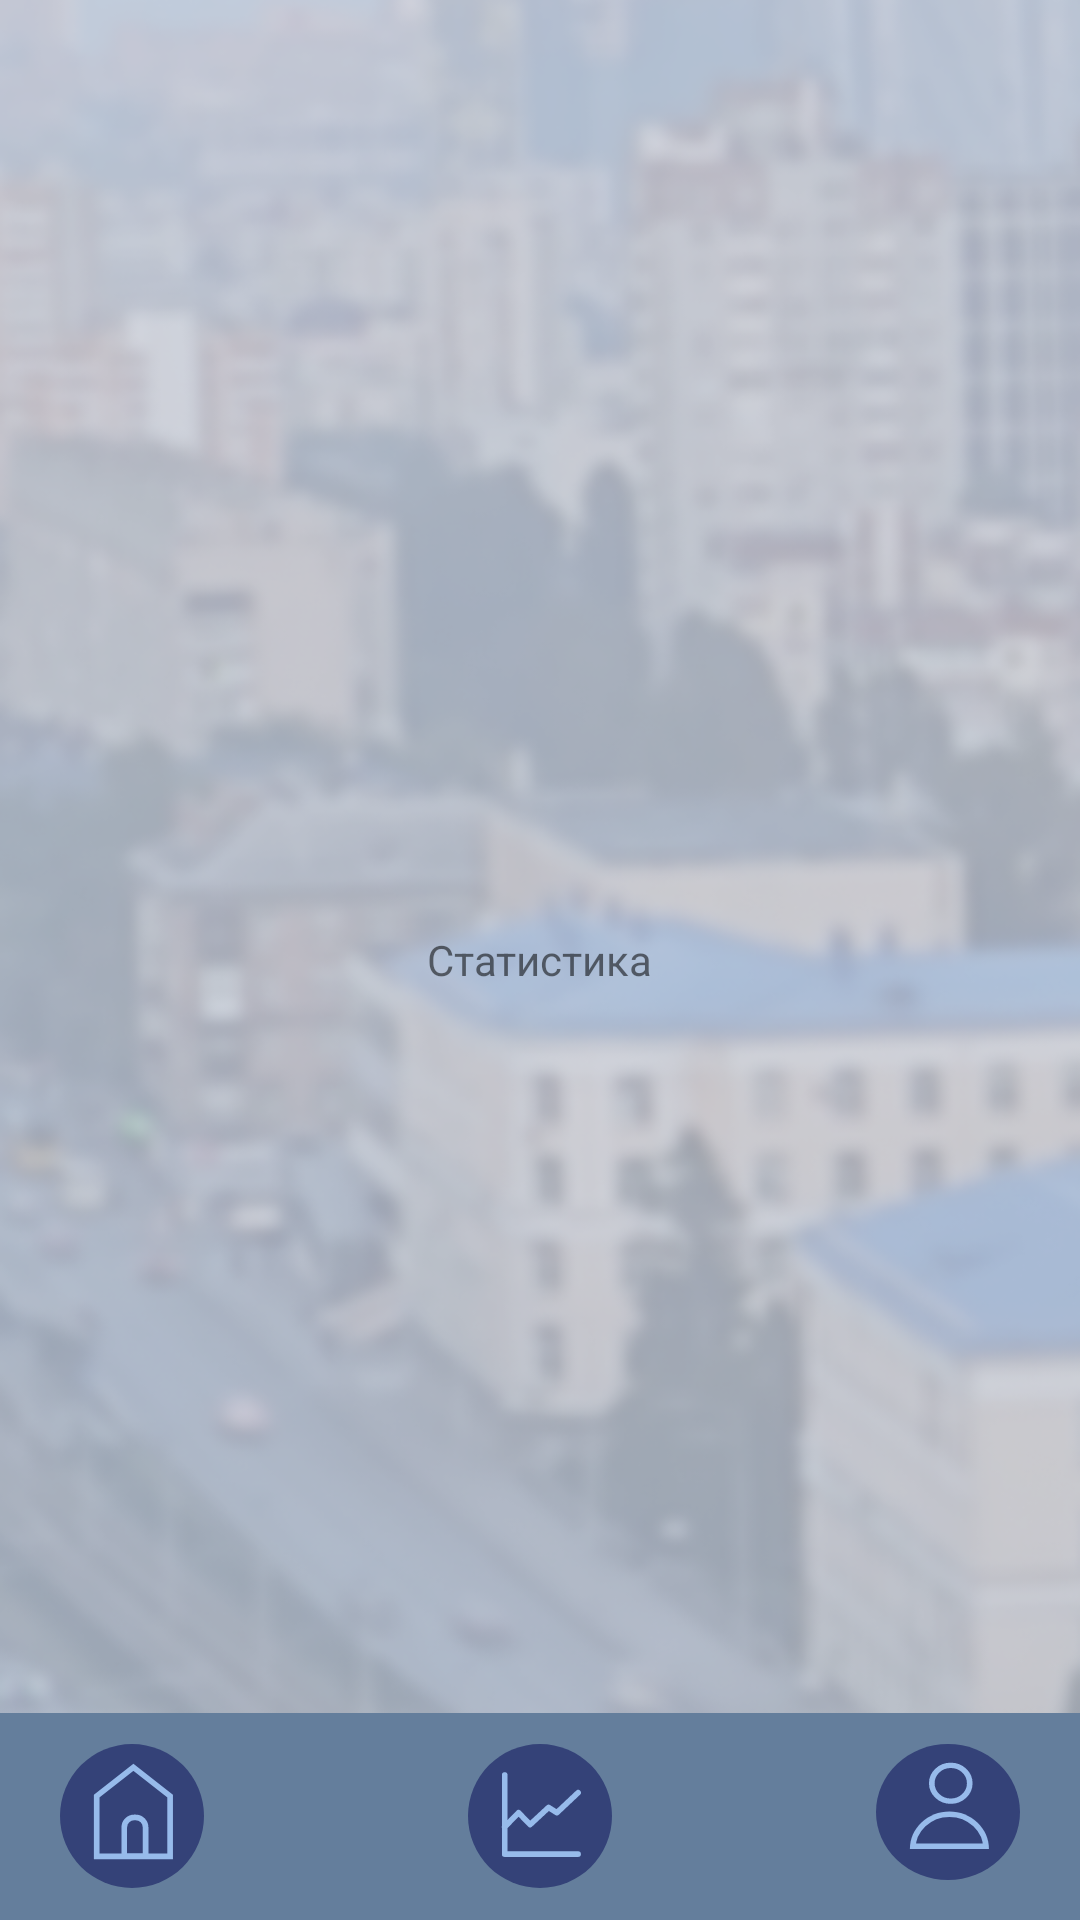

Point at icon controls on the screen. Image size 1080×1920, points as [x,y].
home not: [132,1816]
profile not: [948,1812]
statistic not: [540,1816]
